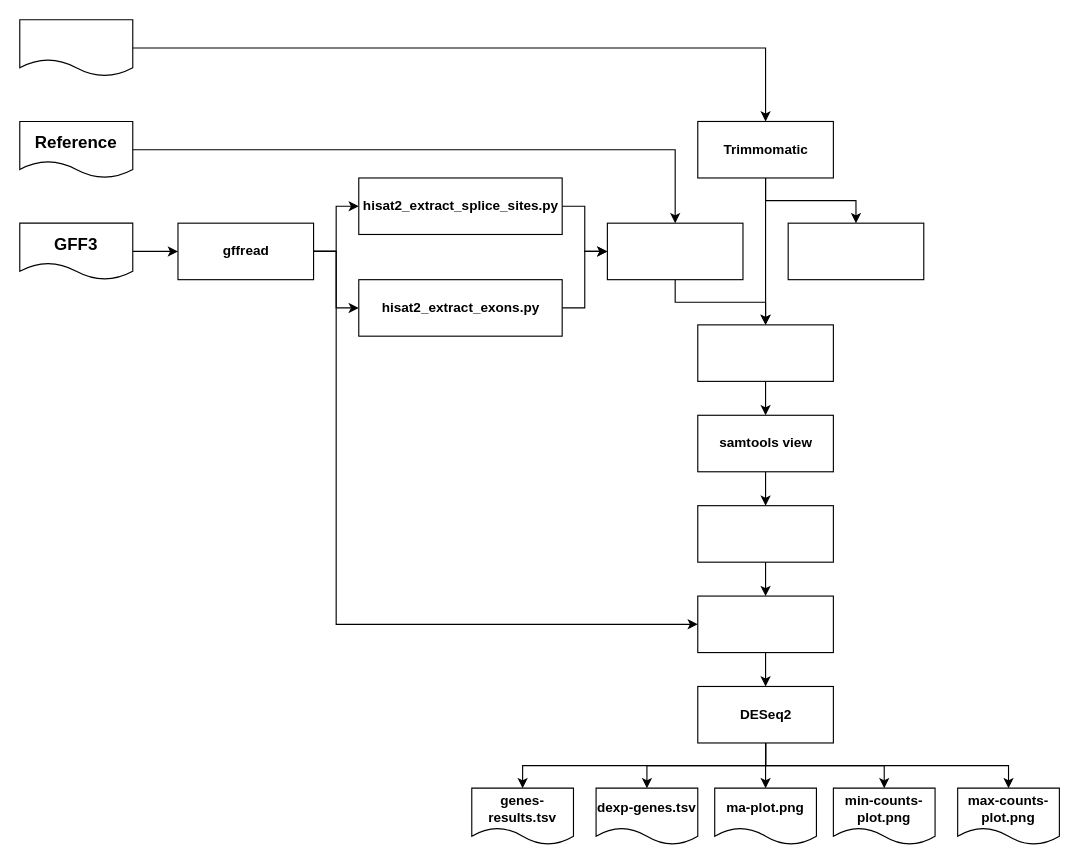
Image size: 1079x864. Some labels were removed from this diagram. Here are the shapes that lost their labels. From the top down, the centre of each, then its label:
(x=76, y=47): FASTQs
(x=674, y=251): hisat2-build
(x=855, y=251): FastQC
(x=765, y=352): hisat2
(x=765, y=533): samtools sort
(x=765, y=624): htseq-count
